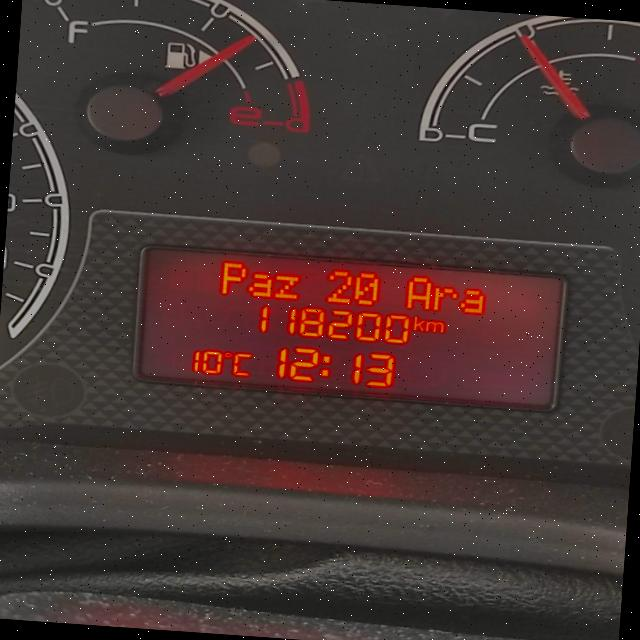odometer: (130, 238, 568, 412)
